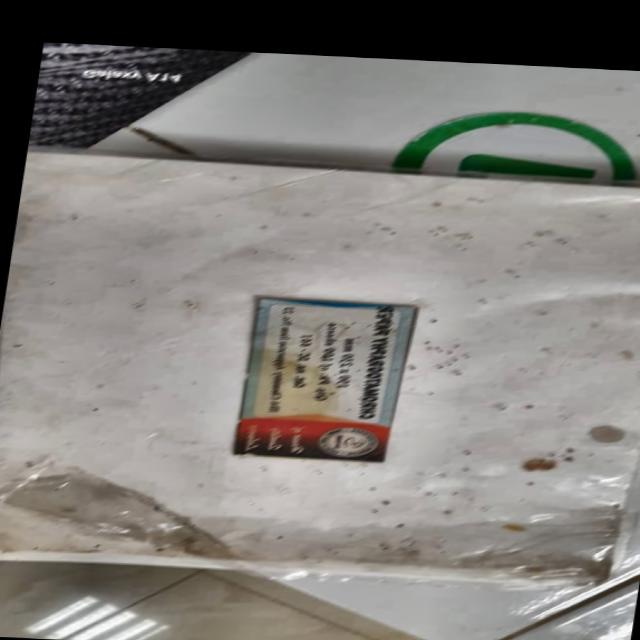Paper Chromatography: (0, 148, 640, 586)
